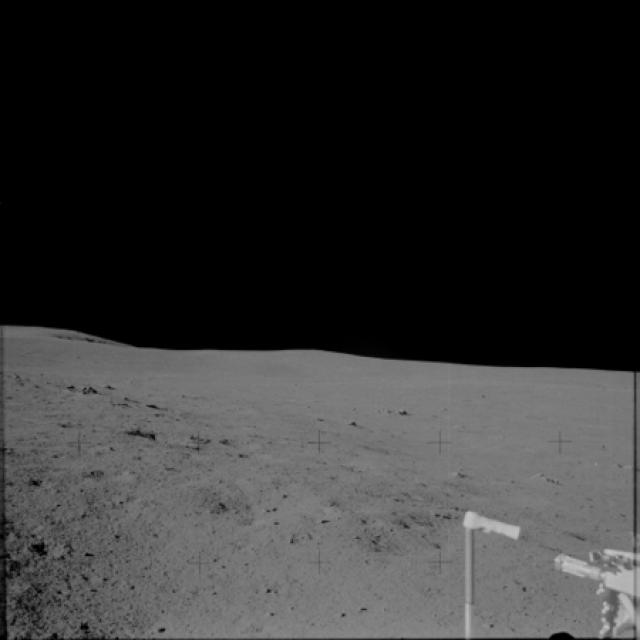crater: (191, 471, 300, 532), (120, 421, 204, 452), (214, 430, 265, 452)
rock: (61, 376, 98, 402)
